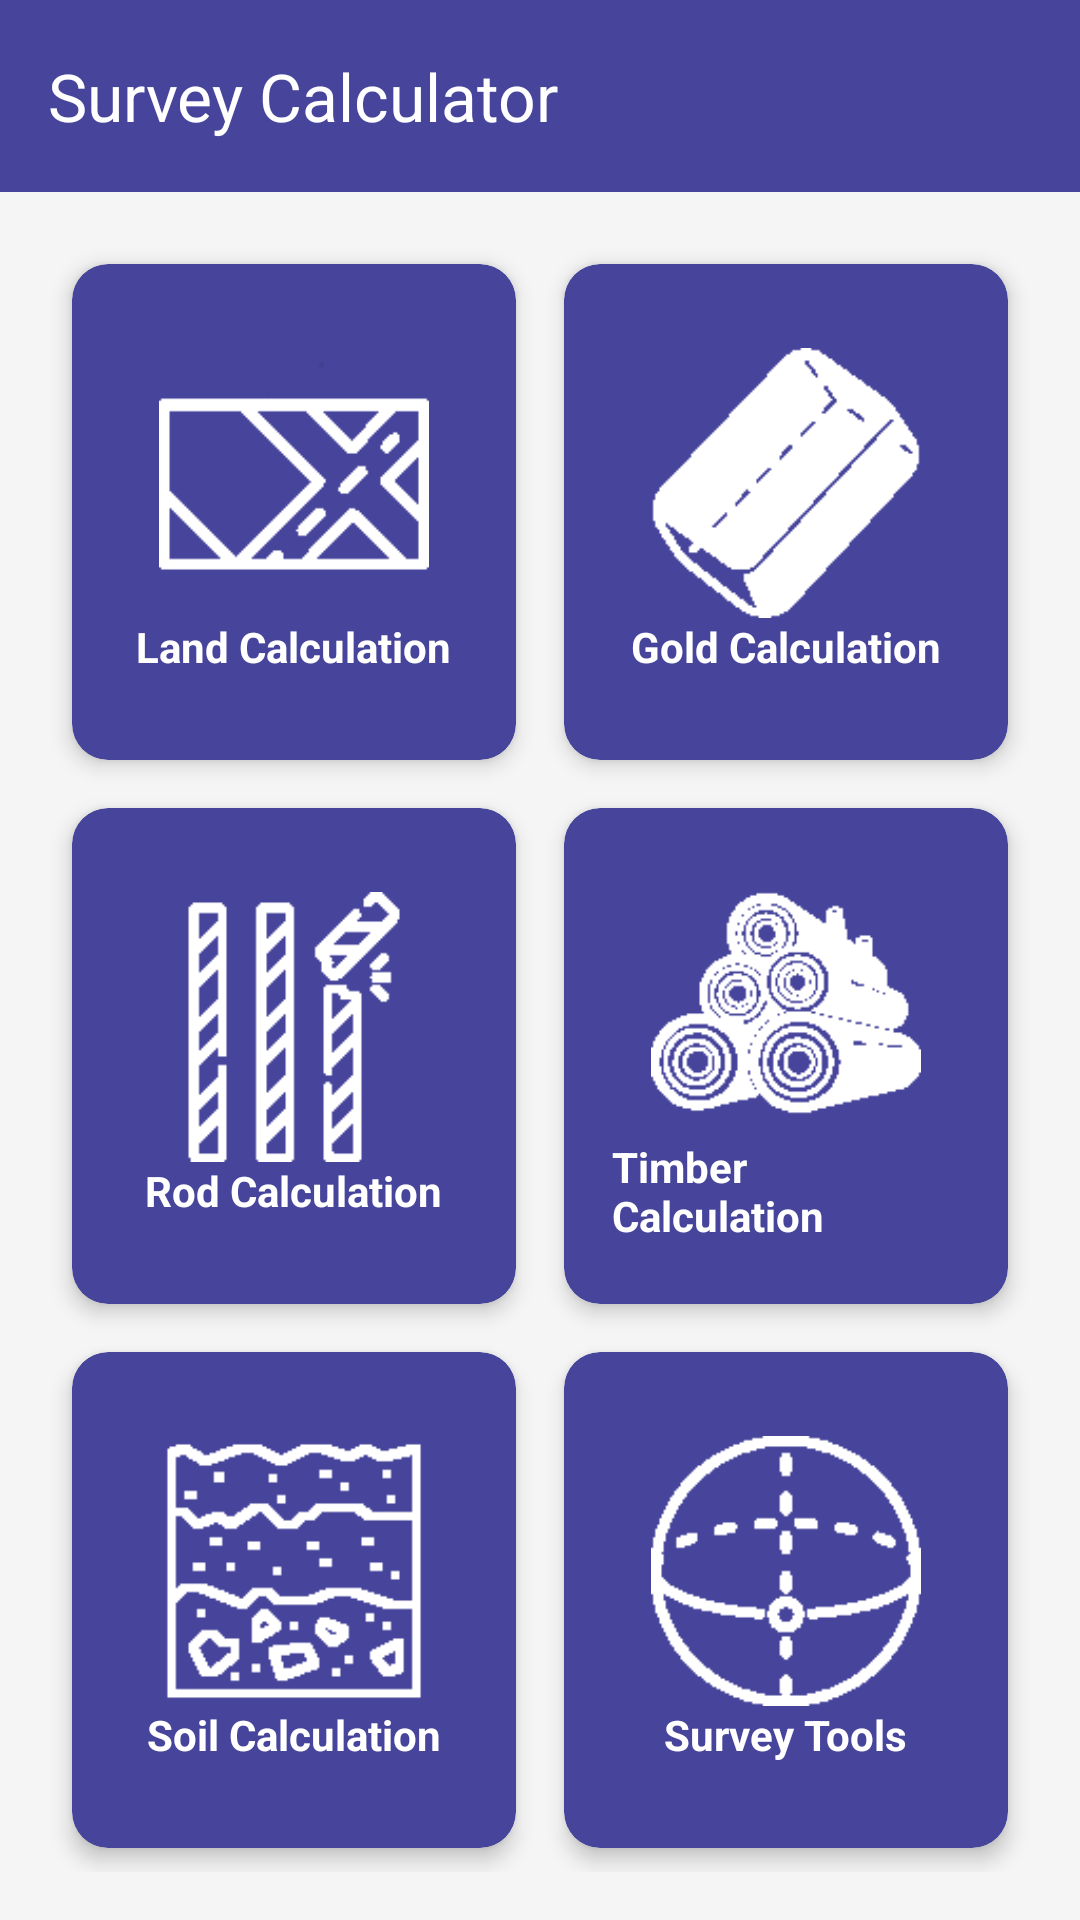

Locate icon controls on the screen. Image size 1080px×1920px, boxes as (x1, y1, x2, y2).
sphere: (651, 1436, 921, 1706)
